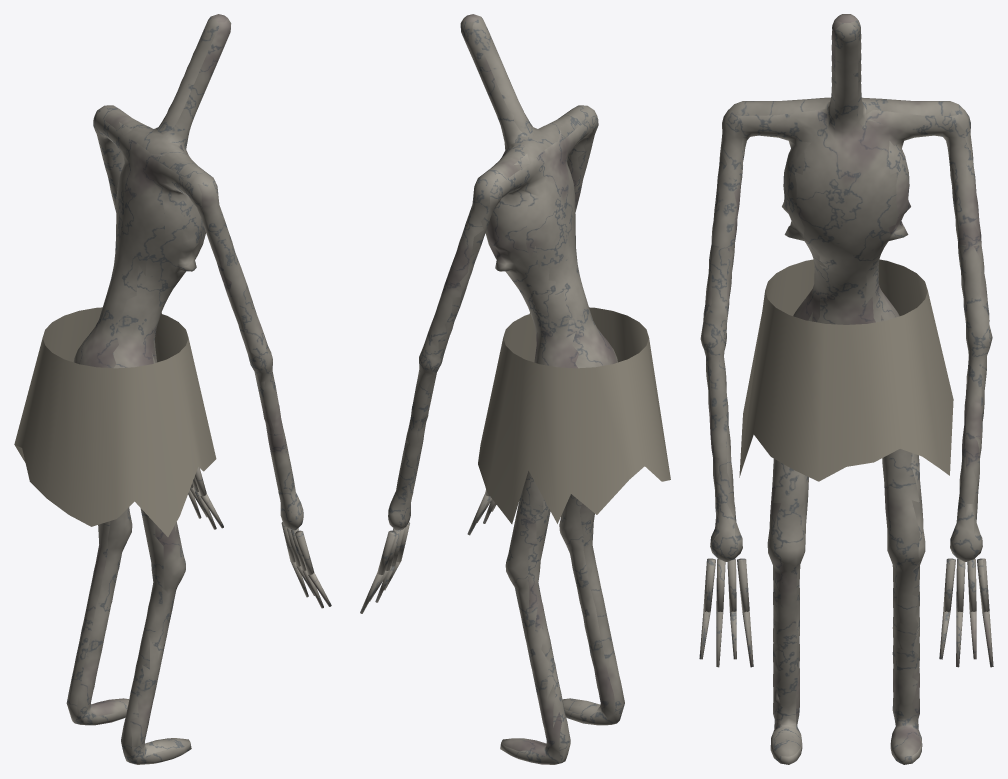
File: SM_Enemy.fbx
3 views of the same model, side by side, from view 1: azimuth 30°, elevation 25°; view 2: azimuth 150°, elevation 25°; view 3: azimuth 270°, elevation 25° (orthographic). The views are drawn at different scales.
Visible parts, largest first — view 1: SM_Enemy; view 2: SM_Enemy; view 3: SM_Enemy.
Boxes of the visible parts, box(x1,y1,x2,y2) form: SM_Enemy: box(14, 14, 331, 764); SM_Enemy: box(360, 14, 670, 764); SM_Enemy: box(699, 14, 993, 764).
Bounding box in the file's own units: 0.7116 × 2.02 × 0.6866.
Materials: 2 (1 with a texture image).
